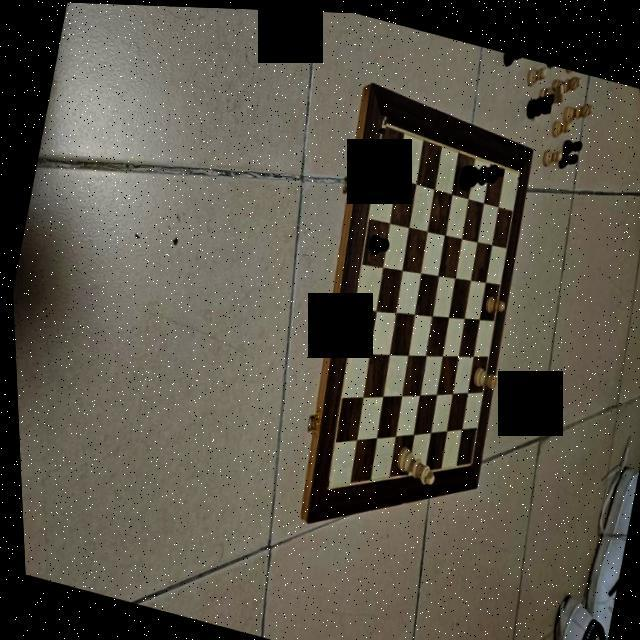chess-table-corners: (374, 112, 386, 130), (317, 478, 327, 492), (512, 163, 522, 176), (462, 453, 470, 465)
